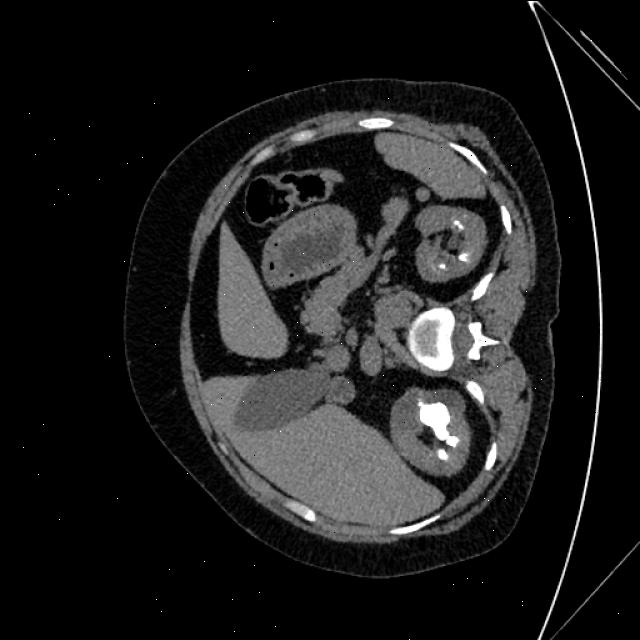kidneystone: (419, 399, 458, 446), (438, 448, 448, 460)
